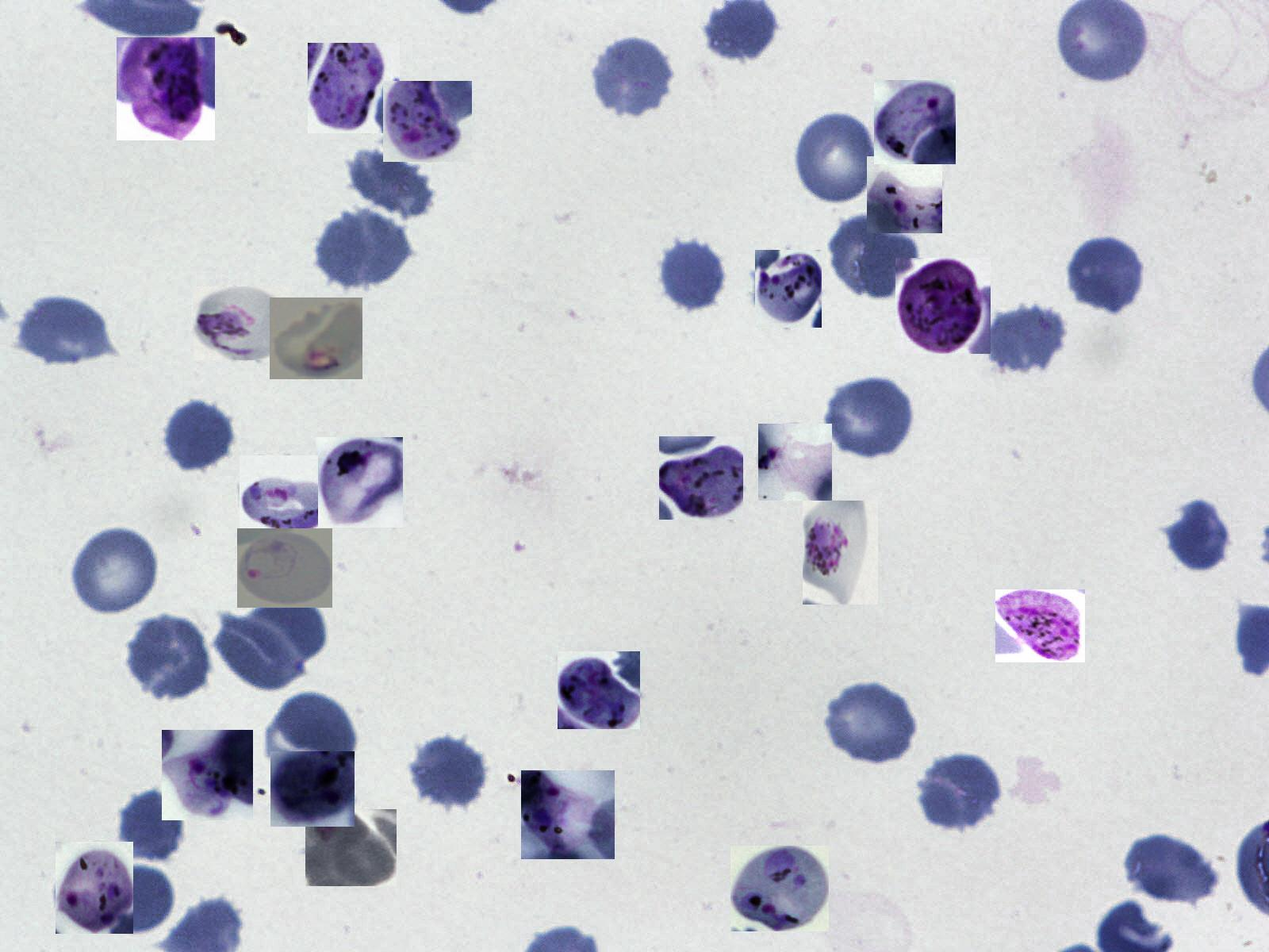Infected: (117, 37, 215, 140), (895, 258, 991, 354), (730, 846, 829, 931), (521, 770, 615, 859), (308, 43, 400, 133), (162, 730, 253, 820), (316, 437, 403, 528), (803, 501, 878, 605), (237, 528, 332, 608), (270, 298, 362, 379), (383, 81, 472, 162), (56, 842, 133, 934), (659, 436, 743, 520), (194, 286, 289, 360), (306, 809, 397, 886), (874, 80, 956, 164), (995, 589, 1085, 662), (270, 751, 355, 827), (558, 651, 640, 729), (240, 455, 318, 535), (867, 156, 942, 233), (758, 424, 832, 501), (755, 250, 822, 328)
Uninfected: (791, 108, 880, 209), (822, 678, 920, 768), (69, 524, 162, 617), (822, 373, 917, 464), (826, 212, 922, 301), (316, 208, 412, 290), (125, 615, 213, 702), (587, 32, 677, 117), (1120, 834, 1222, 909), (212, 612, 309, 690), (269, 691, 361, 772), (15, 294, 110, 371), (915, 752, 1003, 832), (980, 297, 1067, 375), (1066, 234, 1148, 316), (340, 147, 439, 214), (408, 732, 489, 811), (244, 599, 328, 667), (118, 789, 192, 866), (656, 233, 726, 312), (163, 399, 234, 473), (109, 865, 175, 935), (1167, 501, 1230, 572)
